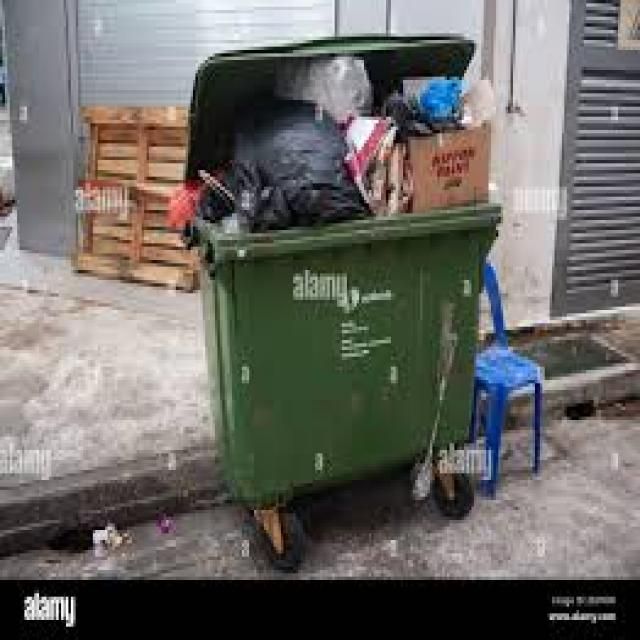bin_full: (199, 57, 514, 523)
bulk_waste: (80, 114, 198, 292), (478, 278, 550, 500), (405, 134, 520, 227)
normal_waste: (224, 137, 364, 231), (282, 67, 378, 122), (420, 82, 473, 126), (394, 99, 419, 142)
